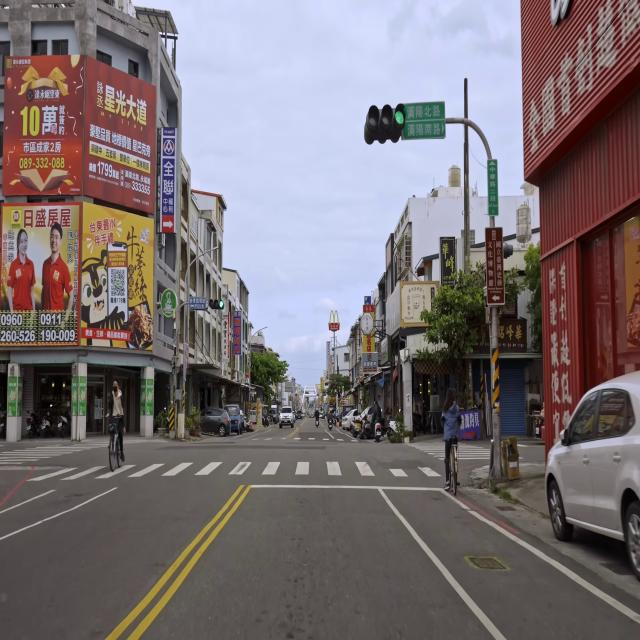green light: (364, 106, 406, 140), (209, 299, 224, 310)
